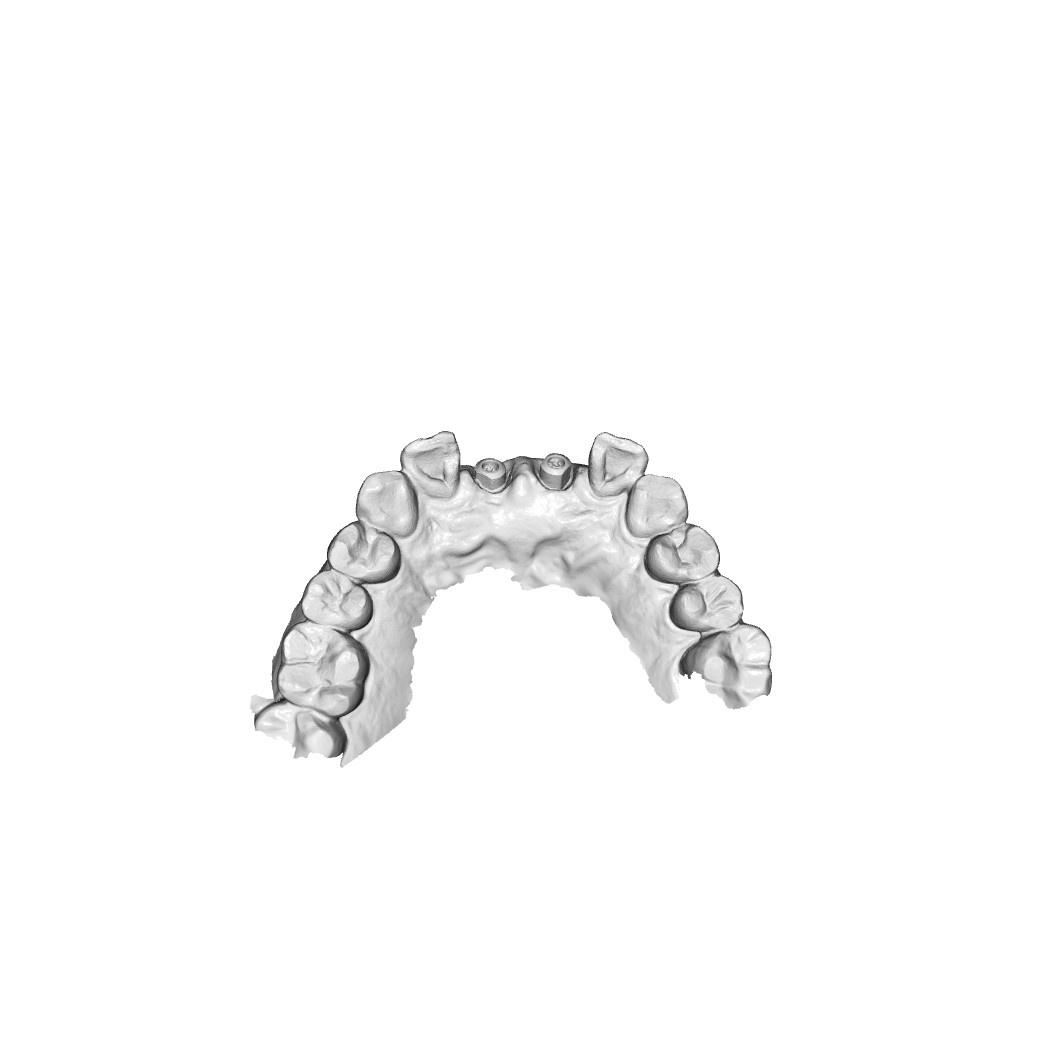canine: (353, 470, 421, 539), (623, 471, 688, 538)
implant: (474, 455, 510, 494), (539, 451, 575, 488)
incisor: (397, 429, 468, 500), (586, 432, 648, 497)
molar: (271, 620, 372, 717), (679, 621, 774, 702)
premolar: (320, 522, 403, 583), (670, 571, 748, 631), (646, 524, 722, 583), (300, 568, 373, 629)
